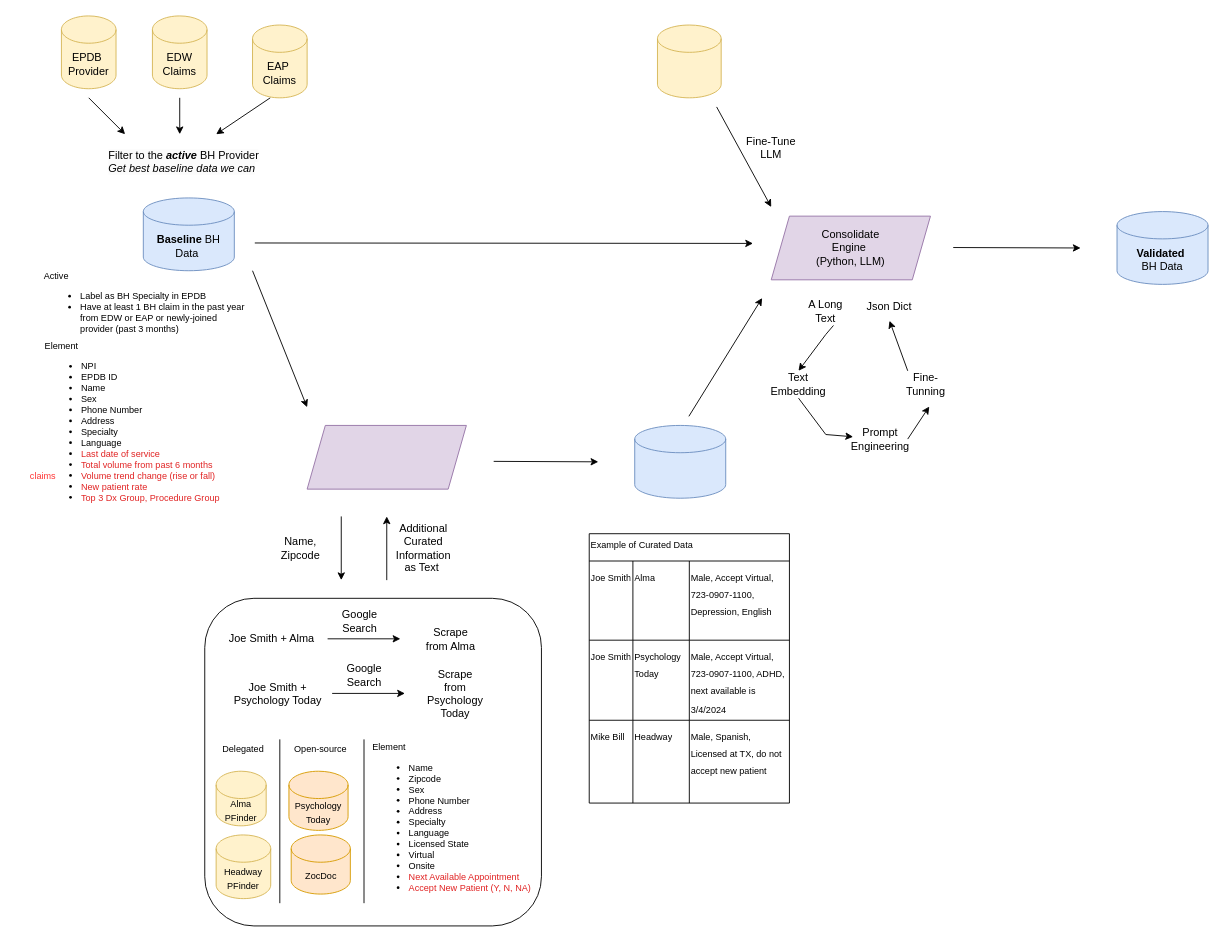
Some shapes in this 1224 by 942 pixel diagram are drawn without their labels. The centre of each missing label's shape, as x and y in pixels:
Curated BH Data: point 680,461
Validated Examples: point 689,61
Web Scraper Engine (Python): point 386,457
